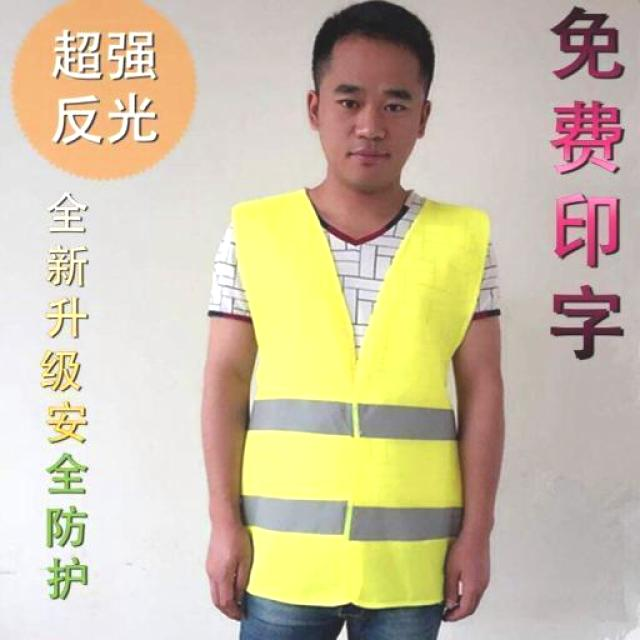face_nomask: (325, 84, 419, 176)
hand_noglove: (430, 536, 499, 630), (198, 536, 264, 623)
head_nohelmet: (302, 1, 438, 69)
person: (192, 0, 513, 640)
vest: (222, 194, 488, 611)
